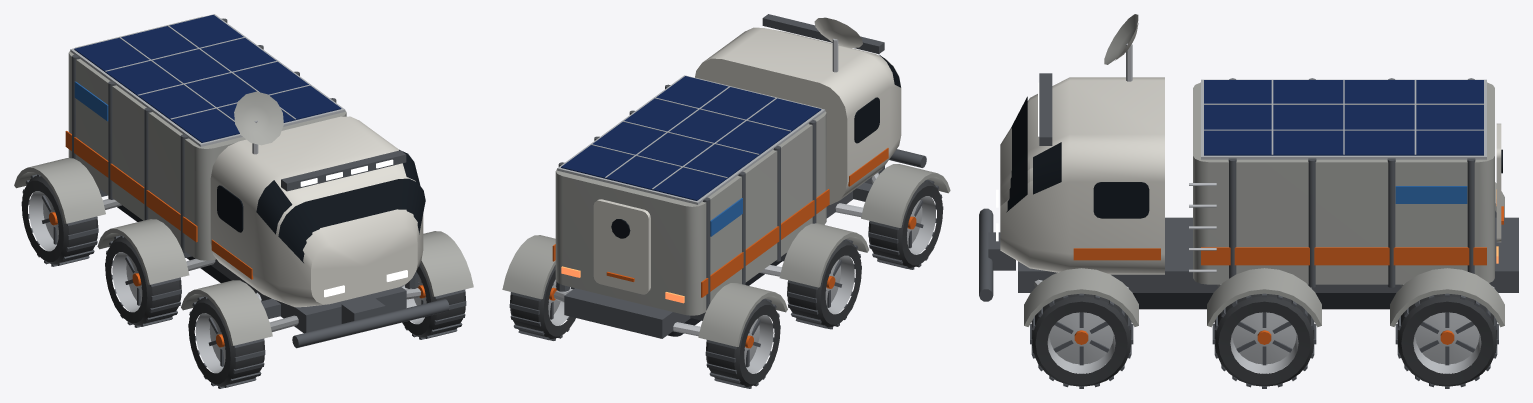
Rendered from rover_hauler.glb.
3 renders of one model, left to right at view 1: azimuth 30°, elevation 25°; view 2: azimuth 150°, elevation 25°; view 3: azimuth 270°, elevation 25°, orthographic. The views are drawn at different scales.
Parts seen in each view (by area): view 1: body, wheel_mr, wheel_fr, wheel_rr, wheel_fl; view 2: body, hatch, wheel_mr, wheel_rr, wheel_fr, wheel_rl; view 3: body, wheel_ml, wheel_fl, wheel_rl, hatch.
Part boxes in pixels (x1=…): body: x1=14, y1=14, x2=473, y2=348; wheel_mr: x1=105, y1=235, x2=181, y2=327; wheel_fr: x1=188, y1=296, x2=265, y2=388; wheel_rr: x1=21, y1=174, x2=98, y2=266; wheel_fl: x1=402, y1=263, x2=466, y2=339; body: x1=502, y1=14, x2=950, y2=346; hatch: x1=593, y1=199, x2=650, y2=294; wheel_mr: x1=787, y1=239, x2=861, y2=329; wheel_rr: x1=705, y1=298, x2=780, y2=388; wheel_fr: x1=868, y1=179, x2=943, y2=269; wheel_rl: x1=509, y1=265, x2=575, y2=340; body: x1=979, y1=14, x2=1518, y2=327; wheel_ml: x1=1212, y1=293, x2=1316, y2=388; wheel_fl: x1=1030, y1=293, x2=1133, y2=388; wheel_rl: x1=1395, y1=293, x2=1498, y2=388; hatch: x1=1496, y1=123, x2=1503, y2=242.
Bounding box in the file's own units: 3.83 × 3.92 × 6.79.
